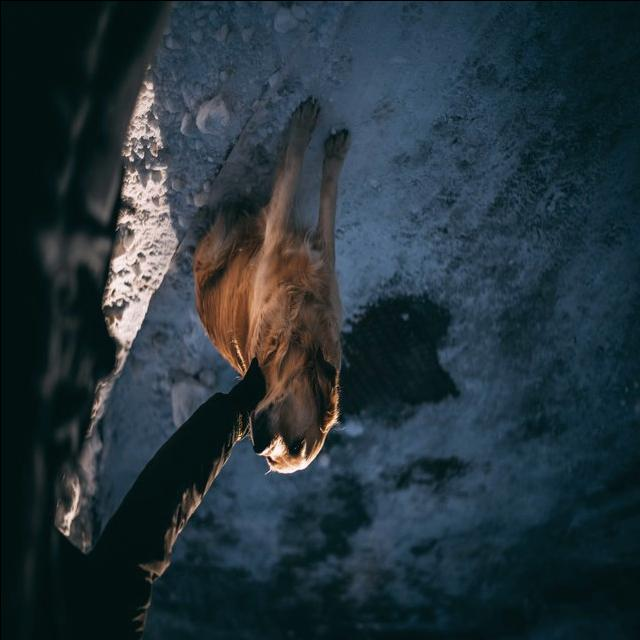retriever: (190, 96, 351, 475)
